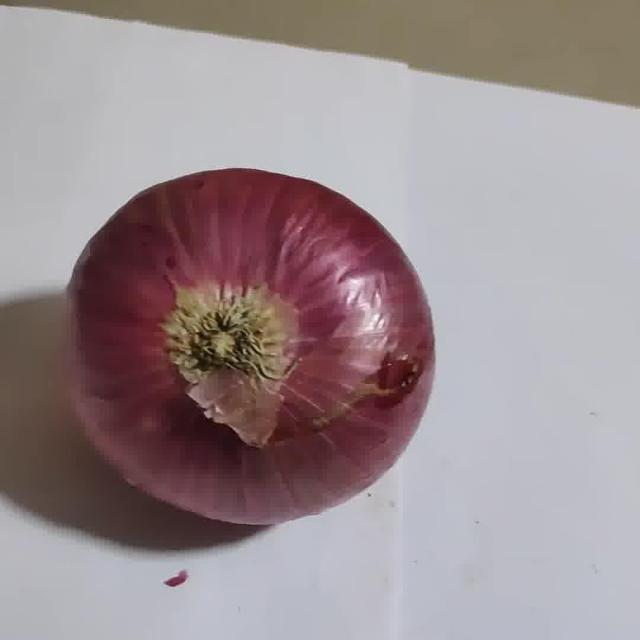Onion: (67, 168, 435, 525)
